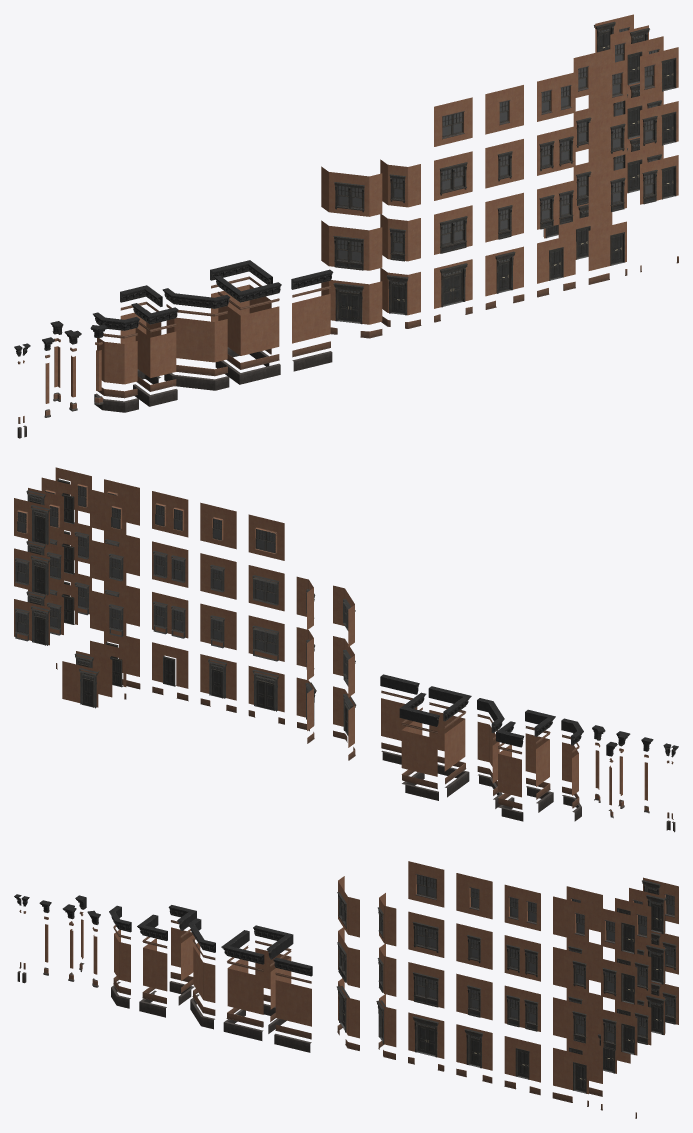
Rendered from modular_urban_apartments_facade.glb.
The picture shows the model from 3 angles, top to bottom: view 1: azimuth 30°, elevation 25°; view 2: azimuth 150°, elevation 25°; view 3: azimuth 330°, elevation 25°; orthographic projection. The views are drawn at different scales.
Parts seen in each view (by area): view 1: wall_standard_corner_large_01, wall_standard_angled_large_01, wall_window_angled_large_02, wall_window_angled_large_01, wall_standard_corner_small_01, wall_standard_standard_01, wall_standard_angled_small_01, wall_window_offset_small_05, wall_window_centered_small_03, wall_window_centered_small_02, wall_door_angled_large_01, wall_window_angled_small_02 (+38 smaller); view 2: wall_standard_corner_large_02, wall_standard_corner_large_01, wall_window_offset_small_06, wall_window_centered_small_03, wall_window_centered_small_02, wall_window_offset_small_04, wall_window_centered_small_01, wall_window_offset_small_02, wall_window_centered_double_03, wall_door_centered_small_02, wall_window_centered_large_03, door_window_small_04 (+37 smaller); view 3: wall_standard_corner_large_01, wall_standard_standard_01, wall_window_centered_small_03, wall_window_offset_small_05, wall_window_centered_small_02, wall_window_offset_small_03, wall_window_centered_small_01, wall_window_centered_double_03, wall_door_centered_small_02, wall_standard_corner_small_01, wall_window_offset_small_01, wall_window_centered_large_03 (+58 smaller).
Boxes of the visible parts, x1=… form: wall_standard_corner_large_01: x1=218, y1=306, x2=279, y2=355; wall_standard_angled_large_01: x1=166, y1=317, x2=227, y2=362; wall_window_angled_large_02: x1=321, y1=166, x2=382, y2=216; wall_window_angled_large_01: x1=321, y1=220, x2=382, y2=270; wall_standard_corner_small_01: x1=135, y1=328, x2=176, y2=377; wall_standard_standard_01: x1=292, y1=294, x2=330, y2=343; wall_standard_angled_small_01: x1=97, y1=338, x2=137, y2=384; wall_window_offset_small_05: x1=588, y1=59, x2=626, y2=109; wall_window_centered_small_03: x1=485, y1=85, x2=523, y2=134; wall_window_centered_small_02: x1=485, y1=139, x2=523, y2=188; wall_door_angled_large_01: x1=321, y1=280, x2=382, y2=324; wall_window_angled_small_02: x1=380, y1=159, x2=420, y2=207; wall_standard_corner_large_02: x1=401, y1=721, x2=437, y2=776; wall_standard_corner_large_01: x1=429, y1=710, x2=465, y2=771; wall_window_offset_small_06: x1=90, y1=489, x2=126, y2=535; wall_window_centered_small_03: x1=200, y1=502, x2=236, y2=549; wall_window_centered_small_02: x1=200, y1=553, x2=236, y2=599; wall_window_offset_small_04: x1=90, y1=540, x2=126, y2=586; wall_window_centered_small_01: x1=200, y1=603, x2=236, y2=649; wall_window_offset_small_02: x1=90, y1=590, x2=126, y2=636; wall_window_centered_double_03: x1=152, y1=491, x2=188, y2=537; wall_door_centered_small_02: x1=152, y1=642, x2=188, y2=688; wall_window_centered_large_03: x1=248, y1=514, x2=284, y2=560; door_window_small_04: x1=14, y1=605, x2=51, y2=645; wall_standard_corner_large_01: x1=227, y1=959, x2=263, y2=1014; wall_standard_standard_01: x1=275, y1=980, x2=311, y2=1026; wall_window_centered_small_03: x1=456, y1=873, x2=492, y2=919; wall_window_offset_small_05: x1=553, y1=896, x2=588, y2=942; wall_window_centered_small_02: x1=456, y1=923, x2=492, y2=969; wall_window_offset_small_03: x1=553, y1=947, x2=588, y2=993; wall_window_centered_small_01: x1=456, y1=973, x2=492, y2=1020; wall_window_centered_double_03: x1=504, y1=884, x2=540, y2=930; wall_door_centered_small_02: x1=504, y1=1036, x2=540, y2=1082; wall_standard_corner_small_01: x1=143, y1=938, x2=167, y2=991; wall_window_offset_small_01: x1=553, y1=997, x2=588, y2=1043; wall_window_centered_large_03: x1=408, y1=861, x2=444, y2=907.
Size of the model in its own units: 51.53 by 17 by 6.67.
Materials: 5 (5 with a texture image).
